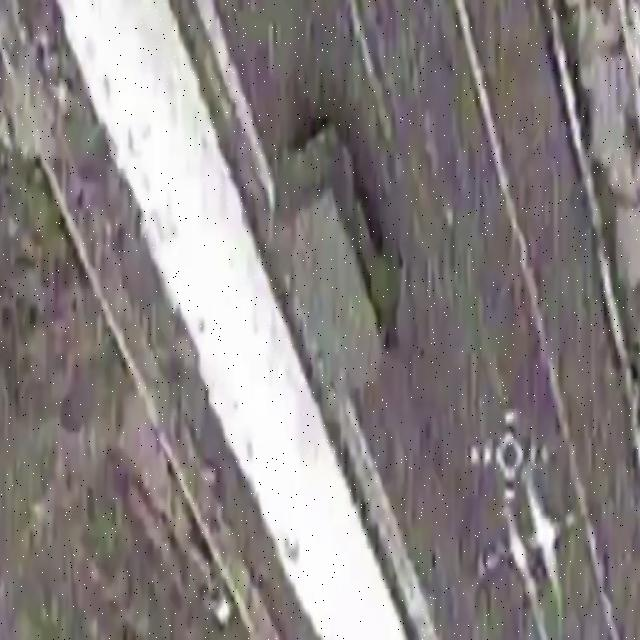CAR: (277, 126, 395, 396)
